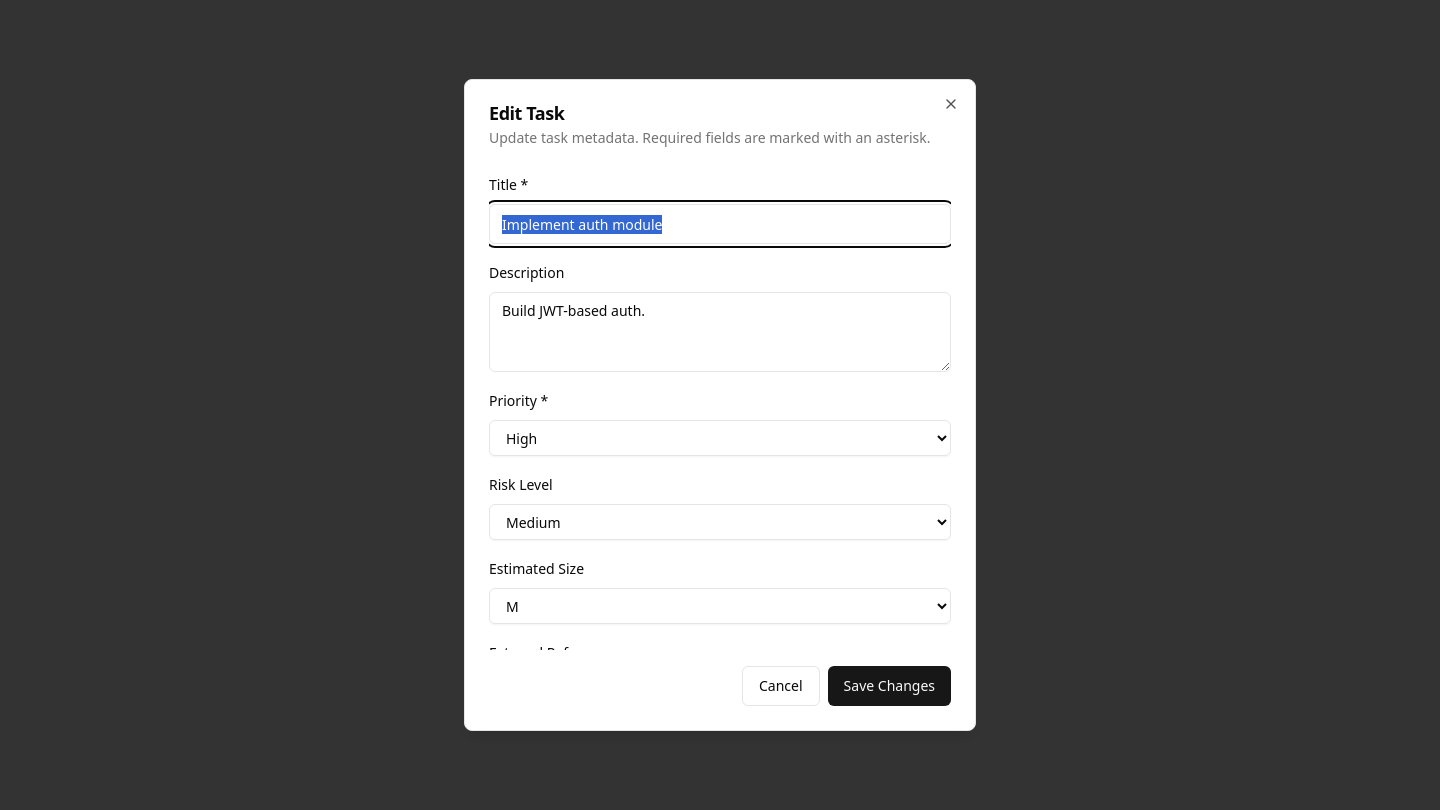
EditTaskDialog › shows conflict message on 409 error
The image size is (1440, 810).
Step 1. Click the button with test id "edit-task-submit" → point(889, 686), box 828,666 -> 951,706
(page scrolled)
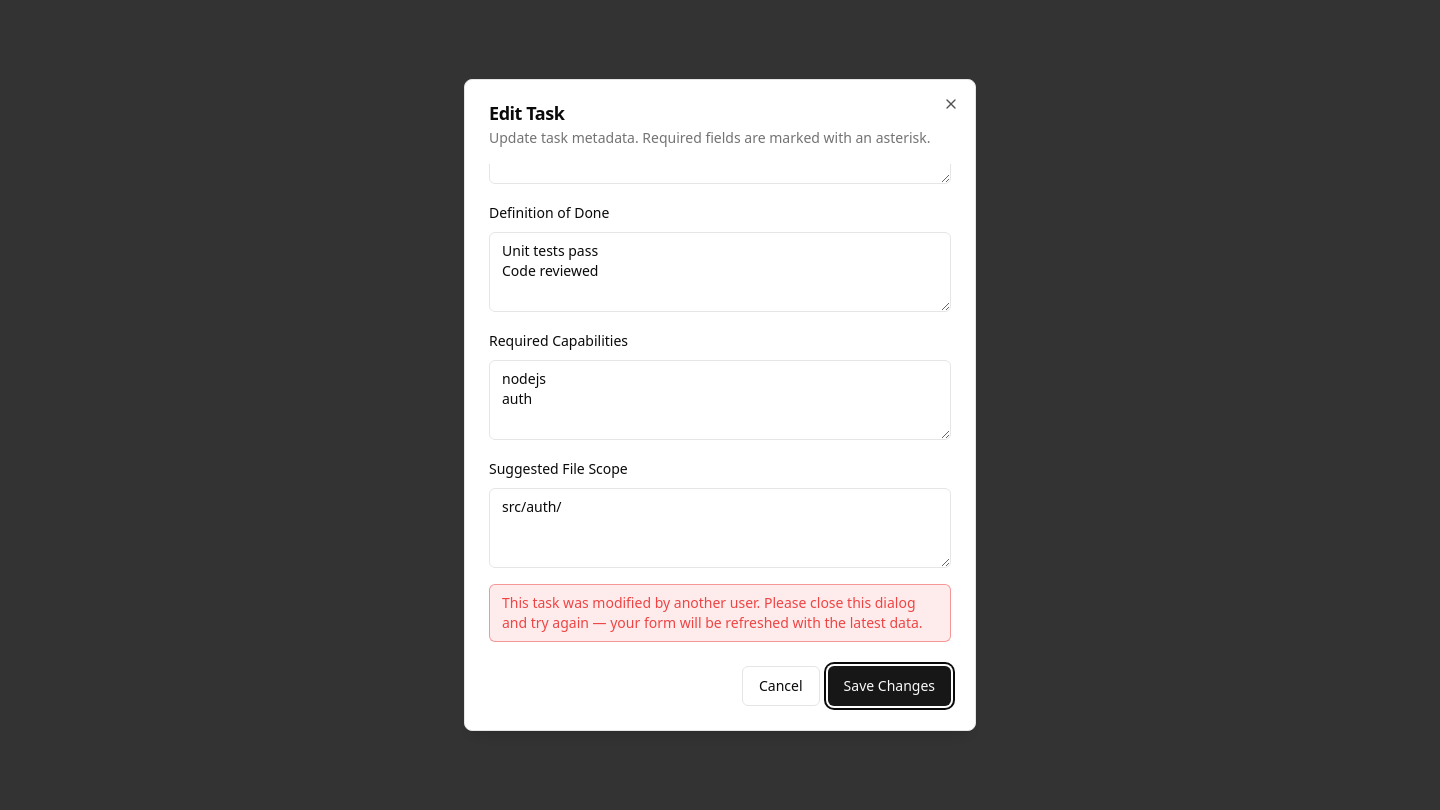
Result: the message with test id "edit-task-error" is shown at 489,584 -> 951,642
Result: the message with test id "edit-task-error" shows "modified by another user" at 502,593 -> 923,632
